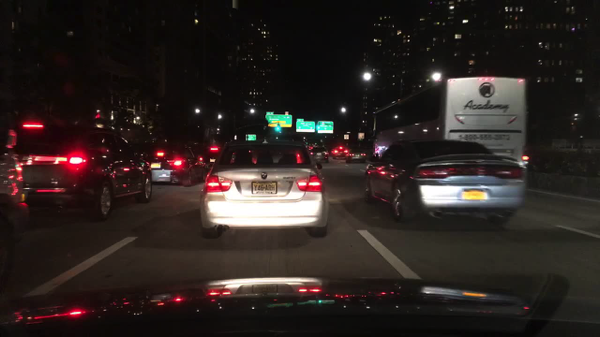bus: (371, 77, 528, 162)
car: (362, 140, 527, 230), (5, 125, 153, 220), (199, 140, 331, 241), (1, 126, 31, 296), (140, 142, 206, 186), (197, 144, 225, 176), (308, 145, 329, 162), (330, 145, 351, 161), (345, 149, 367, 162)
traffic light: (274, 125, 284, 134)
traffic sign: (265, 114, 291, 129), (295, 120, 316, 132), (317, 120, 333, 135), (245, 134, 256, 142)
